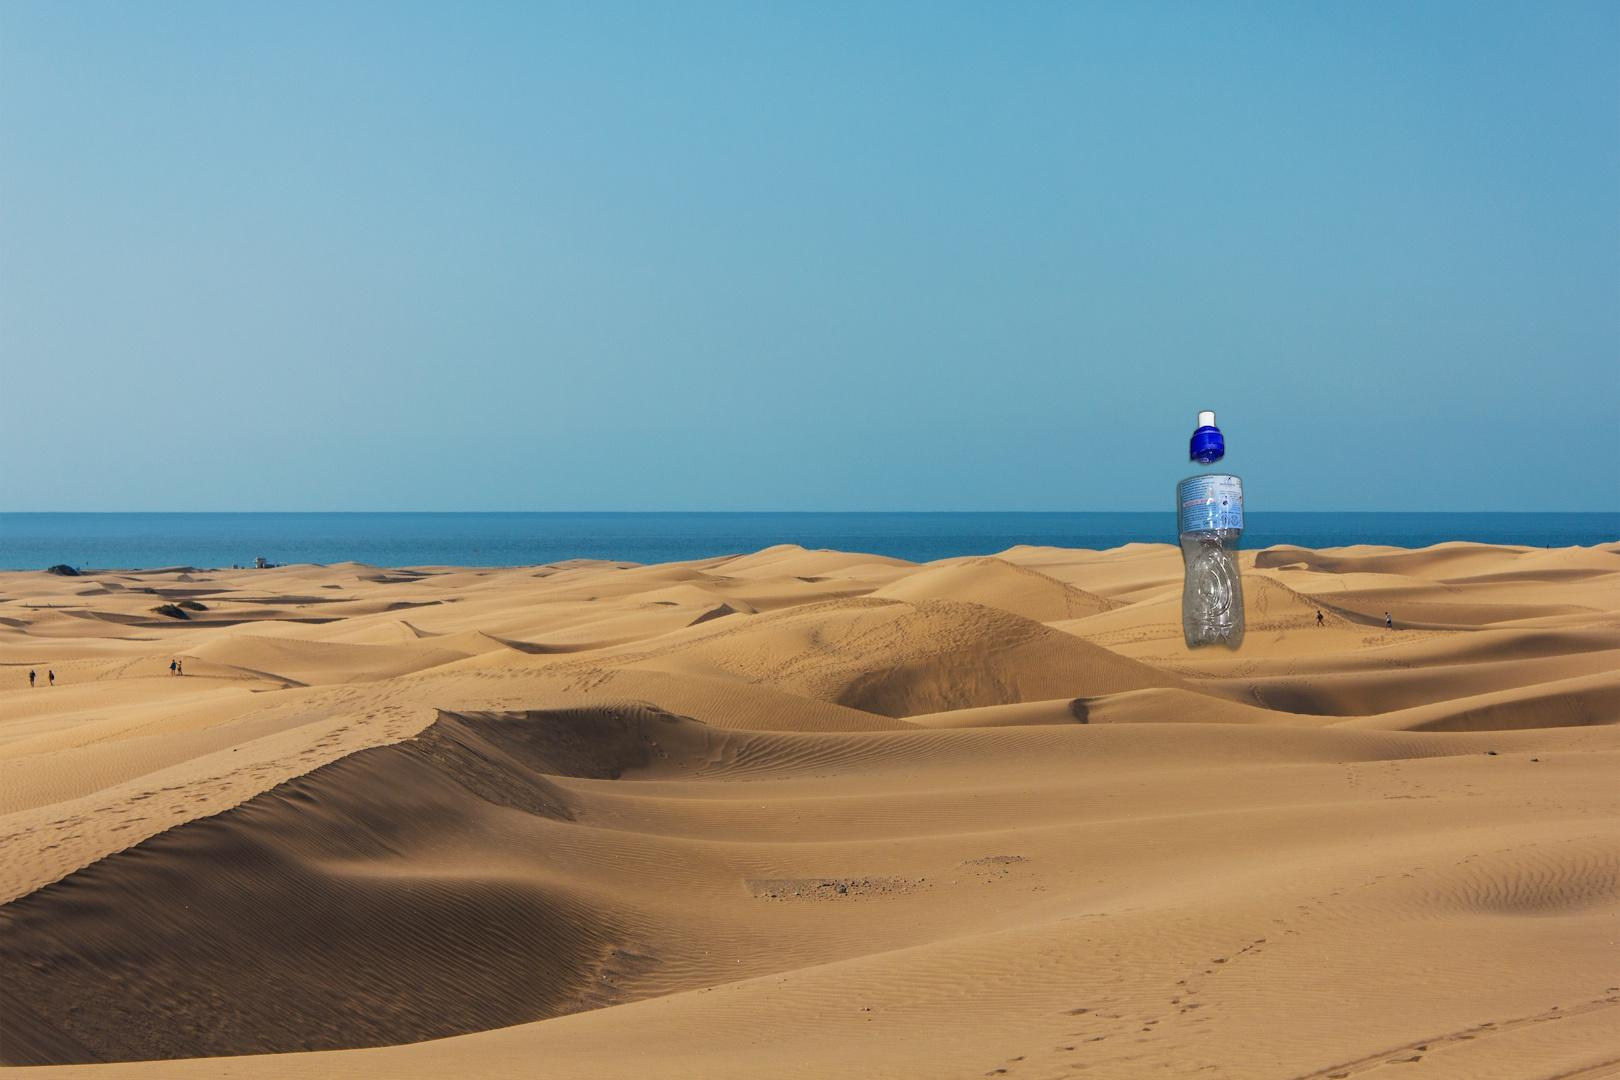plastic-bottles: (1173, 406, 1248, 663)
